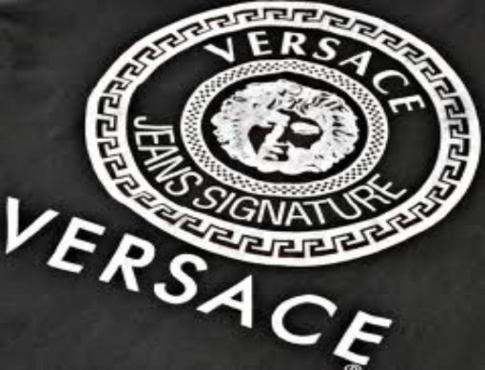VERSACE: (2, 1, 485, 367)
